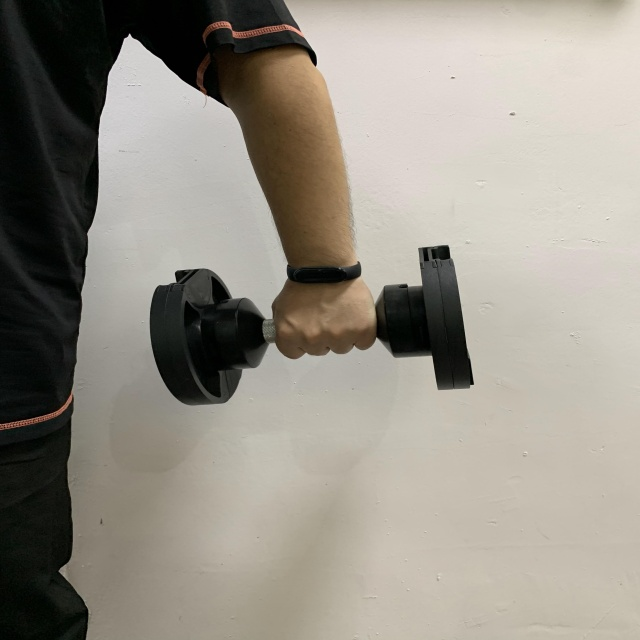03-6kg: (151, 244, 479, 407)
